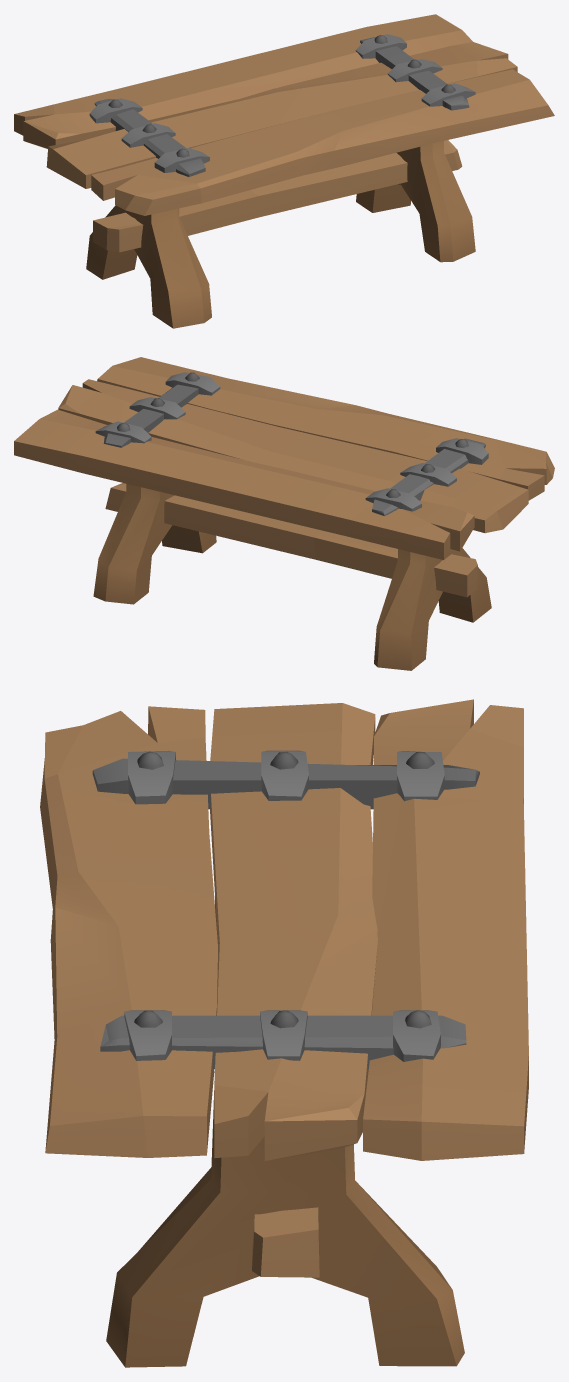
File: Table_A.fbx
3 renders of one model, top to bottom at view 1: azimuth 30°, elevation 25°; view 2: azimuth 150°, elevation 25°; view 3: azimuth 270°, elevation 25°, orthographic. The views are drawn at different scales.
Parts seen in each view (by area): view 1: Table_A; view 2: Table_A; view 3: Table_A.
Boxes of the visible parts, x1,y1,x2,y2 form: Table_A: (14,14,554,328); Table_A: (14,357,554,670); Table_A: (40,699,528,1367).
Size of the model in its own units: 237 by 86.05 by 114.
